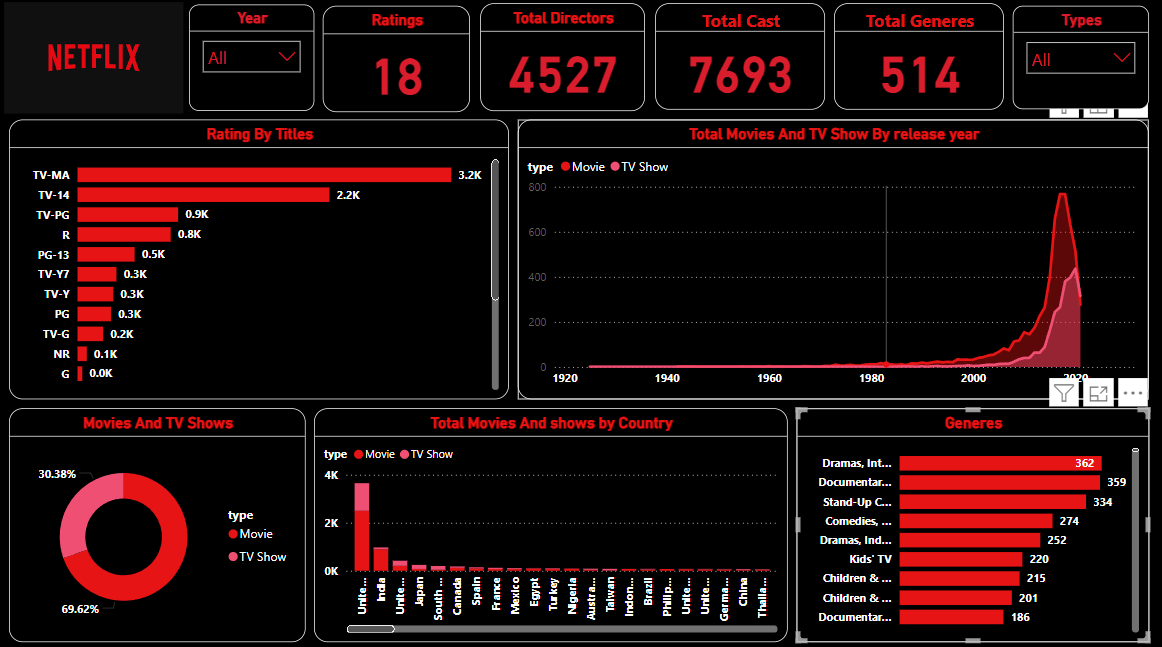

What the dashboard file says about the page in this screenshot:
{"tool":"powerbi","page":{"name":"Page 1","canvas":[1280,720],"ordinal":0},"visuals":[{"type":"image","box":[0,0,208.6,134.5],"z":0},{"type":"clusteredBarChart","title":"Rating By Titles","fields":{"Category":["netflix_titles(Datacleaning).rating"],"Y":["Count(netflix_titles(Datacleaning).title)"]},"box":[11,134.5,548.9,307.4],"z":1000},{"type":"donutChart","title":"Movies And TV Shows","fields":{"Y":["CountNonNull(netflix_titles(Datacleaning).show_id)"],"Category":["netflix_titles(Datacleaning).type"]},"box":[11,451.5,325.2,256.6],"z":2000},{"type":"barChart","title":"Generes","fields":{"Category":["netflix_titles(Datacleaning).listed_in"],"Y":["CountNonNull(netflix_titles(Datacleaning).show_id)"]},"box":[875.5,451.5,387,256.6],"z":3000},{"type":"areaChart","title":"Total Movies And TV Show By release year","fields":{"Category":["netflix_titles(Datacleaning).release_year"],"Y":["Count(netflix_titles(Datacleaning).show_id)"],"Series":["netflix_titles(Datacleaning).type"]},"box":[569.5,134.5,693,307.4],"z":4000},{"type":"columnChart","title":"Total Movies And shows by Country","fields":{"Category":["netflix_titles(Datacleaning).country"],"Y":["CountNonNull(netflix_titles(Datacleaning).show_id)"],"Series":["netflix_titles(Datacleaning).type"]},"box":[345.8,451.5,520.1,256.6],"z":5000},{"type":"slicer","title":"Year","fields":{"Values":["netflix_titles(Datacleaning).release_year"]},"box":[208.6,8.2,137.2,116.6],"z":6000},{"type":"card","title":"Ratings","fields":{"Values":["Count(netflix_titles(Datacleaning).rating)"]},"box":[355.4,9.6,161.9,116.6],"z":6001},{"type":"card","title":"Total Directors","fields":{"Values":["Count(netflix_titles(Datacleaning).director)"]},"box":[528.3,6.9,181.1,118],"z":6002},{"type":"card","title":"Total Cast","fields":{"Values":["Count(netflix_titles(Datacleaning).cast)"]},"box":[720.4,6.9,186.6,116.6],"z":6003},{"type":"card","title":"Total Generes","fields":{"Values":["Count(netflix_titles(Datacleaning).listed_in)"]},"box":[916.6,6.9,186.6,116.6],"z":6004},{"type":"slicer","title":"Types","fields":{"Values":["netflix_titles(Datacleaning).type"]},"box":[1112.9,9.6,149.6,113.9],"z":6005}]}

Visuals, with their boxes in screenshot pixels (x1, y1, x2, y2), scaled from the page's 1280x720 canvas onto the 1162x647 screenshot:
image: l=0, t=0, r=189, b=121
"Rating By Titles" clusteredBarChart: l=10, t=121, r=508, b=397
"Movies And TV Shows" donutChart: l=10, t=406, r=305, b=636
"Generes" barChart: l=795, t=406, r=1146, b=636
"Total Movies And TV Show By release year" areaChart: l=517, t=121, r=1146, b=397
"Total Movies And shows by Country" columnChart: l=314, t=406, r=786, b=636
"Year" slicer: l=189, t=7, r=314, b=112
"Ratings" card: l=323, t=9, r=470, b=113
"Total Directors" card: l=480, t=6, r=644, b=112
"Total Cast" card: l=654, t=6, r=823, b=111
"Total Generes" card: l=832, t=6, r=1001, b=111
"Types" slicer: l=1010, t=9, r=1146, b=111
